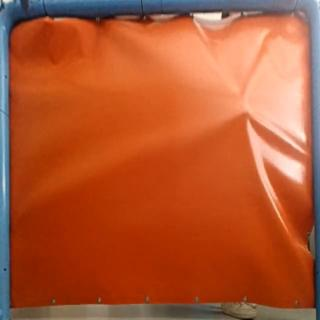Hit-hRxx: (240, 106, 256, 120)
